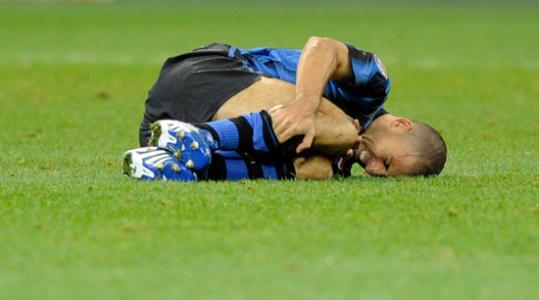fall: (127, 28, 454, 183)
